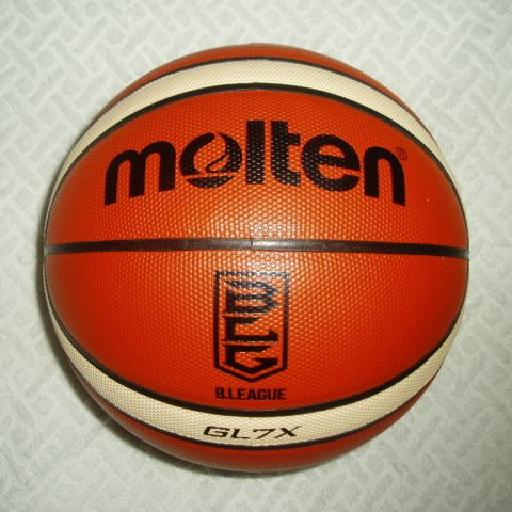ball: (46, 43, 468, 473)
